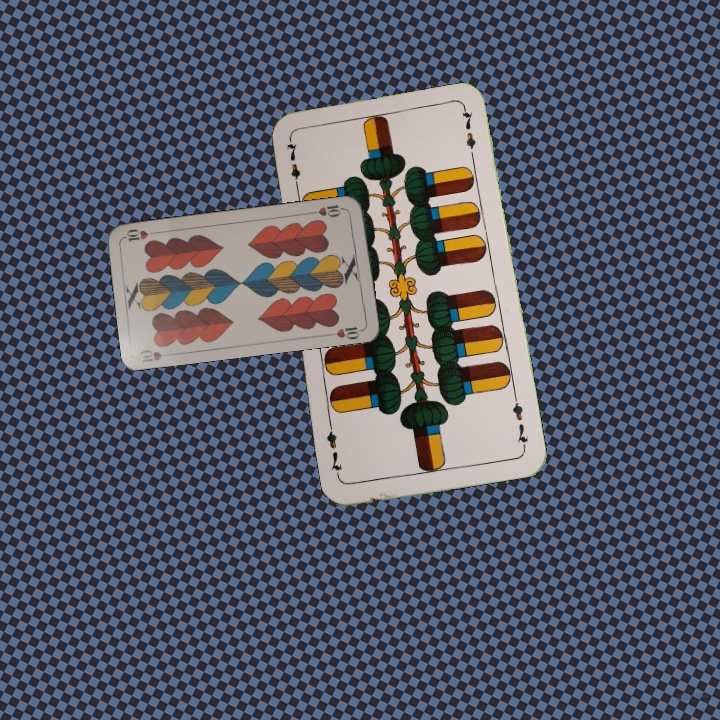E7: (508, 392, 530, 451), (282, 136, 303, 195)
H10: (308, 200, 348, 220), (136, 346, 176, 365)
